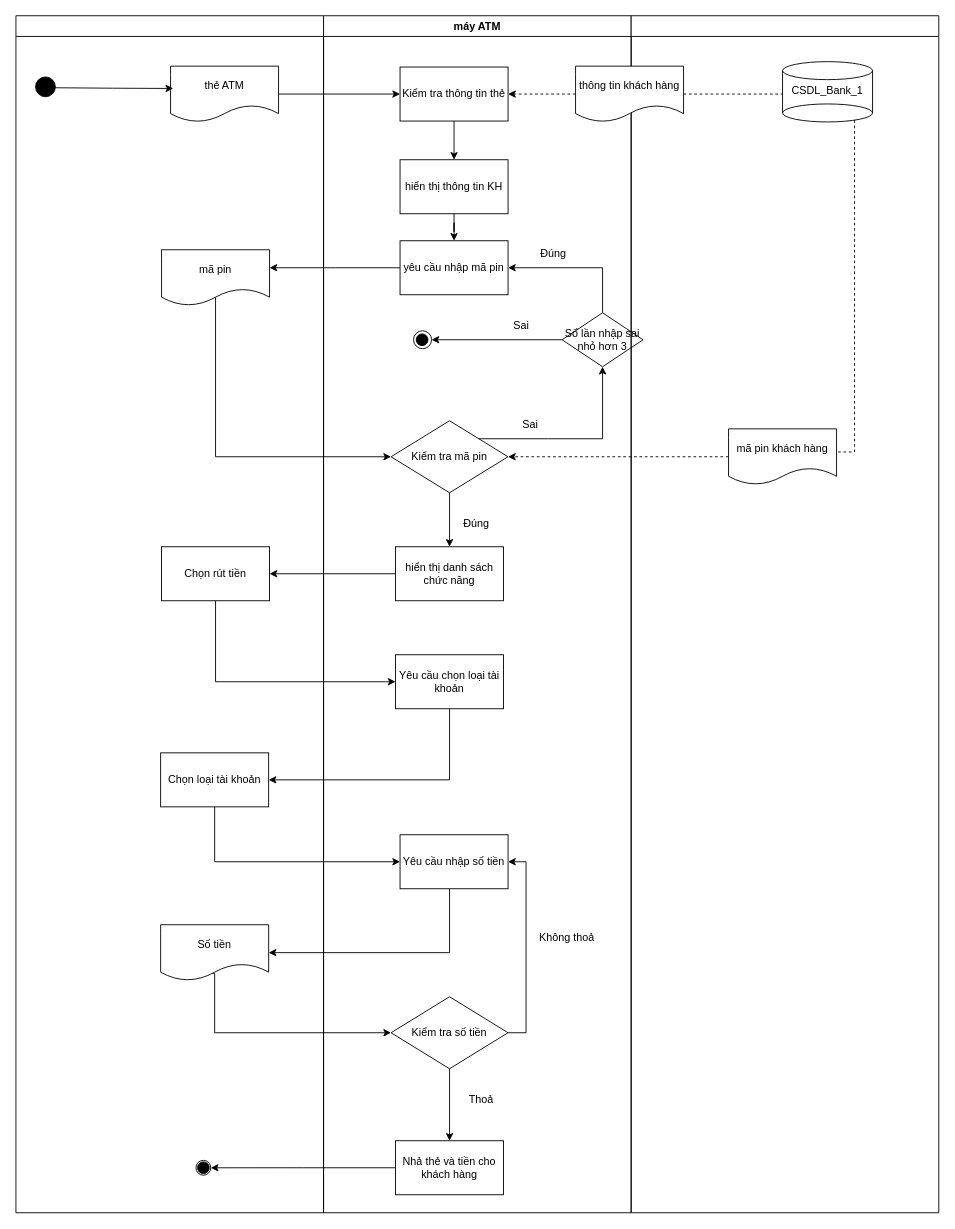
Some shapes in this 955 by 1229 pixel diagram are drawn without their labels. The centre of each missing label's shape, as x and y in pixels:
Hệ thống ngân hàng: [784,614]
Khách hàng: [169,614]
